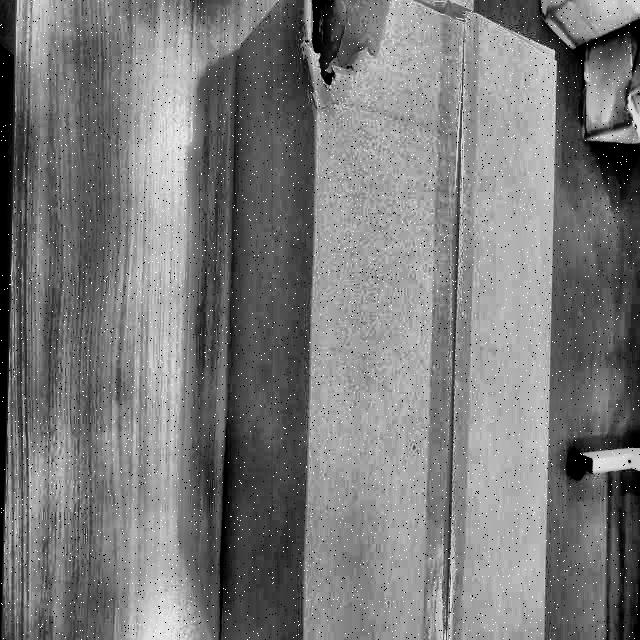box: (214, 0, 566, 639)
hole: (292, 0, 364, 99)
